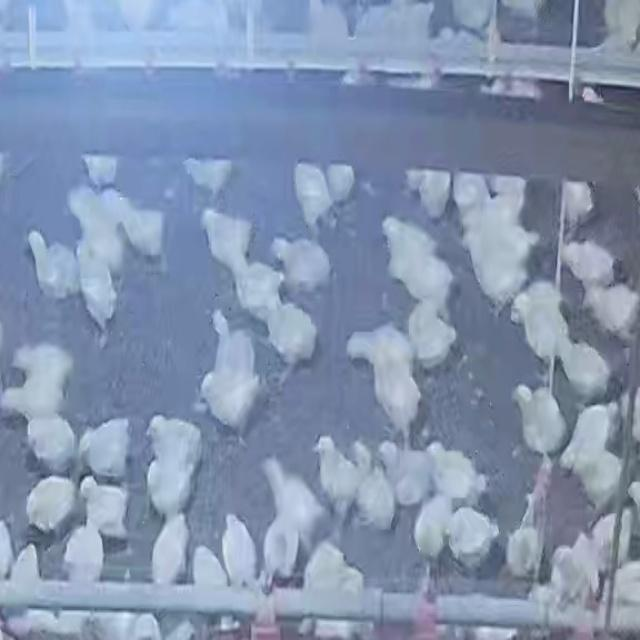chicken: (202, 317, 252, 425), (263, 455, 318, 548), (263, 295, 318, 383), (68, 187, 125, 271), (347, 438, 390, 533), (115, 197, 174, 264), (381, 255, 452, 308), (555, 329, 607, 401), (76, 245, 121, 327), (511, 382, 560, 456), (559, 405, 618, 464), (403, 299, 455, 365), (28, 230, 77, 299), (224, 250, 275, 316), (577, 287, 639, 341), (270, 232, 332, 285), (343, 322, 407, 373), (376, 435, 425, 501), (314, 434, 355, 512), (427, 438, 479, 499), (571, 441, 620, 503), (82, 417, 131, 478), (148, 513, 189, 585), (143, 458, 197, 512), (191, 204, 248, 255), (539, 538, 585, 601), (557, 240, 618, 287), (590, 511, 635, 574), (20, 482, 78, 530), (20, 417, 71, 471), (446, 507, 497, 561), (403, 165, 453, 219), (508, 302, 558, 356), (473, 251, 530, 298), (81, 479, 127, 537), (378, 216, 444, 256), (222, 511, 255, 590), (292, 162, 334, 224), (146, 416, 201, 463), (378, 368, 417, 433), (10, 346, 73, 384), (63, 529, 105, 585), (264, 507, 294, 585), (303, 546, 351, 593), (182, 156, 233, 200), (415, 495, 451, 557), (457, 226, 539, 253), (0, 383, 68, 415), (455, 196, 523, 224), (561, 176, 595, 231), (505, 522, 542, 569), (575, 530, 599, 594), (448, 170, 484, 211), (10, 541, 42, 587), (192, 546, 223, 592), (80, 154, 118, 185), (328, 158, 353, 205), (492, 172, 527, 205)
